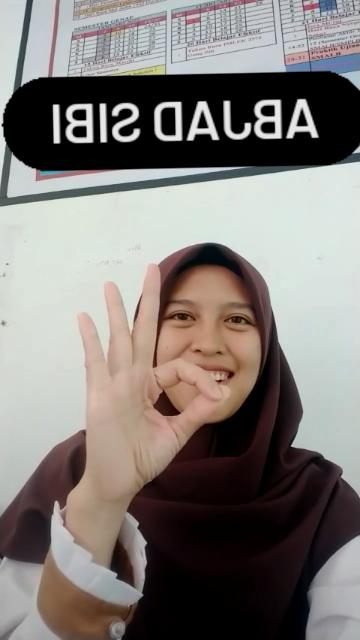F: (66, 260, 231, 502)
